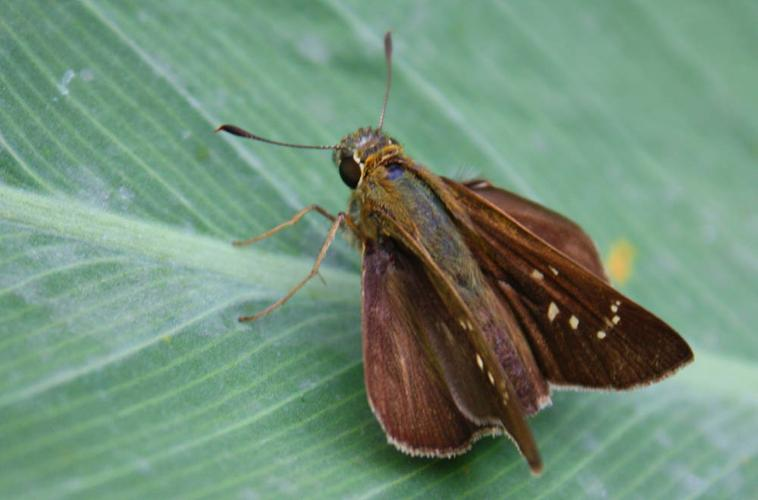Hesperiidae: (213, 31, 699, 473)
